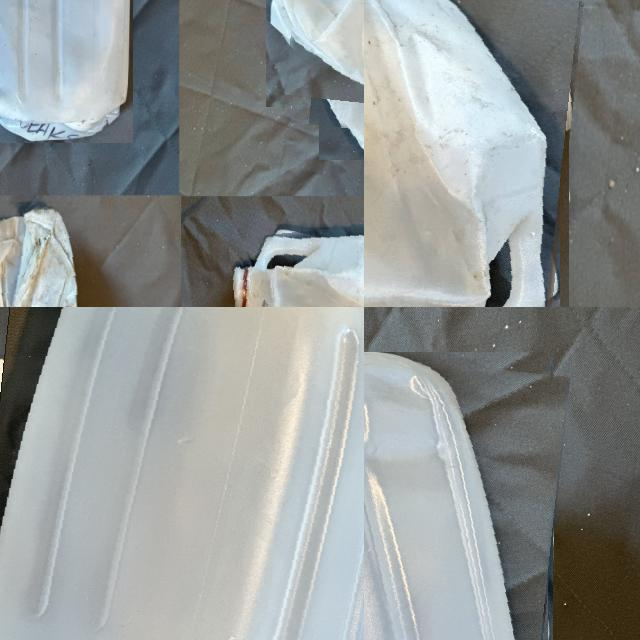milk-jug: (0, 307, 364, 640), (364, 0, 574, 307), (364, 344, 560, 640), (0, 0, 133, 145), (234, 222, 364, 307), (287, 0, 364, 139), (0, 202, 81, 307)
